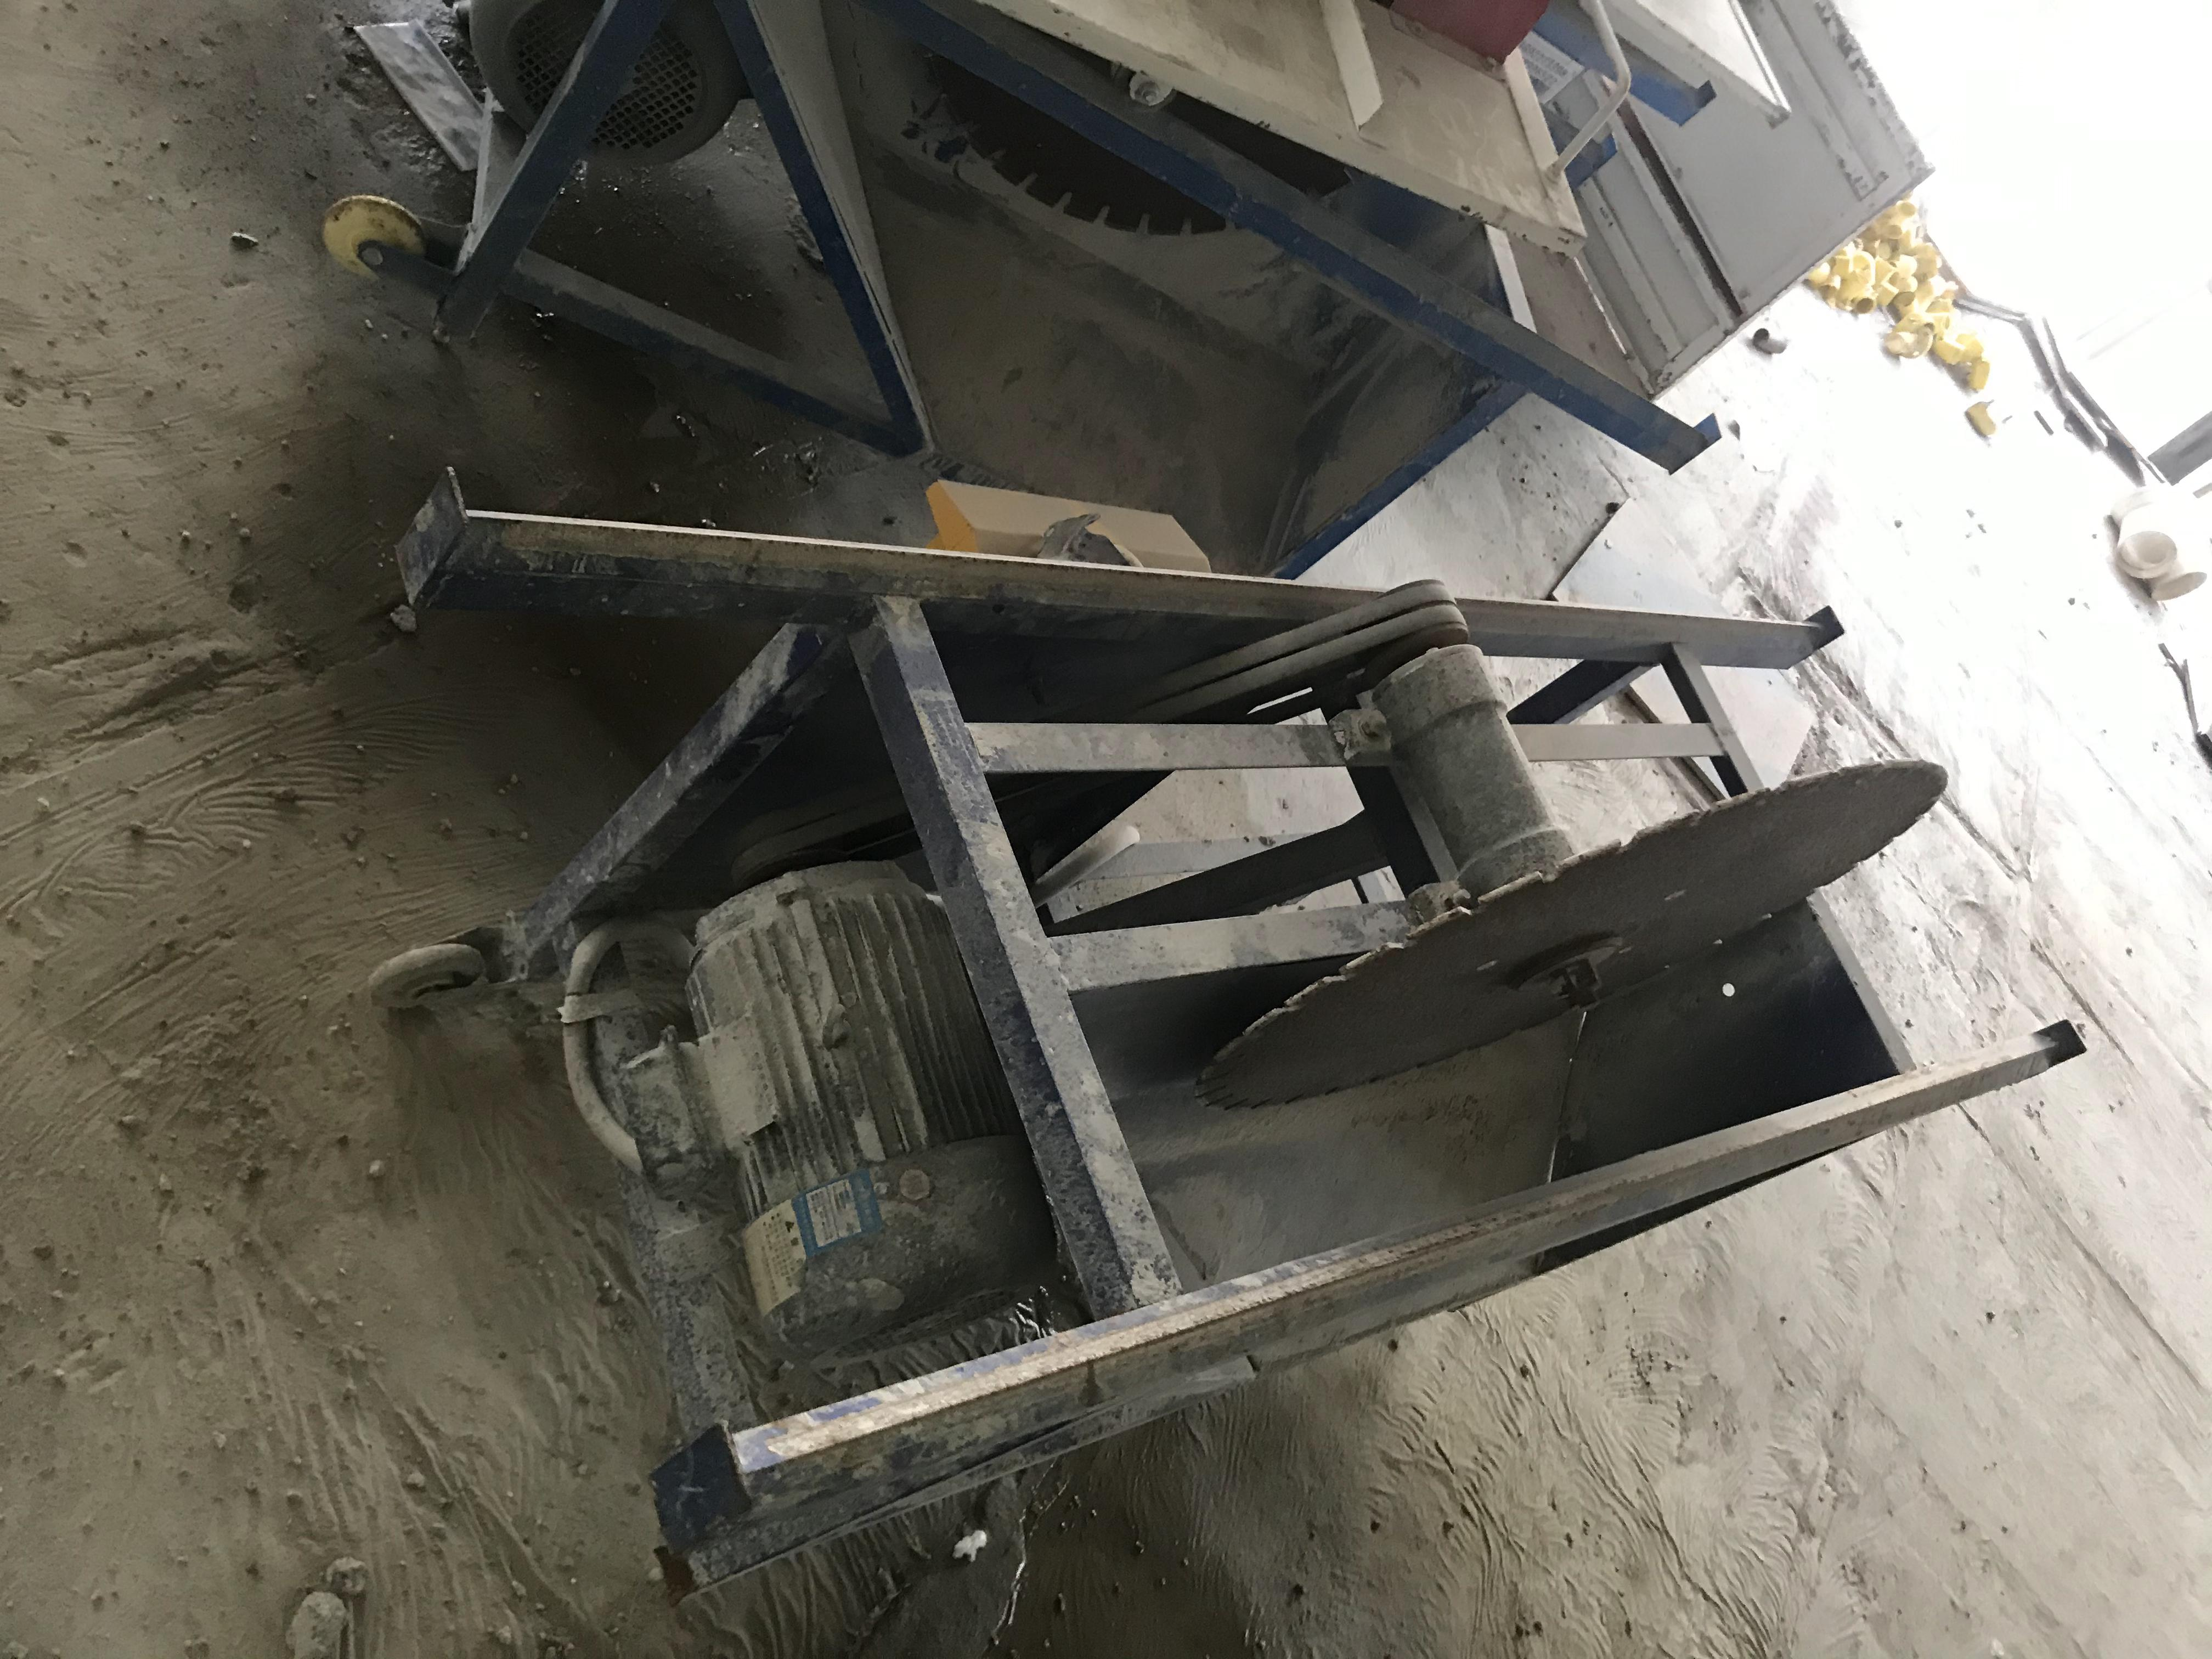cutter: (378, 484, 2088, 1530), (329, 0, 1959, 500)
